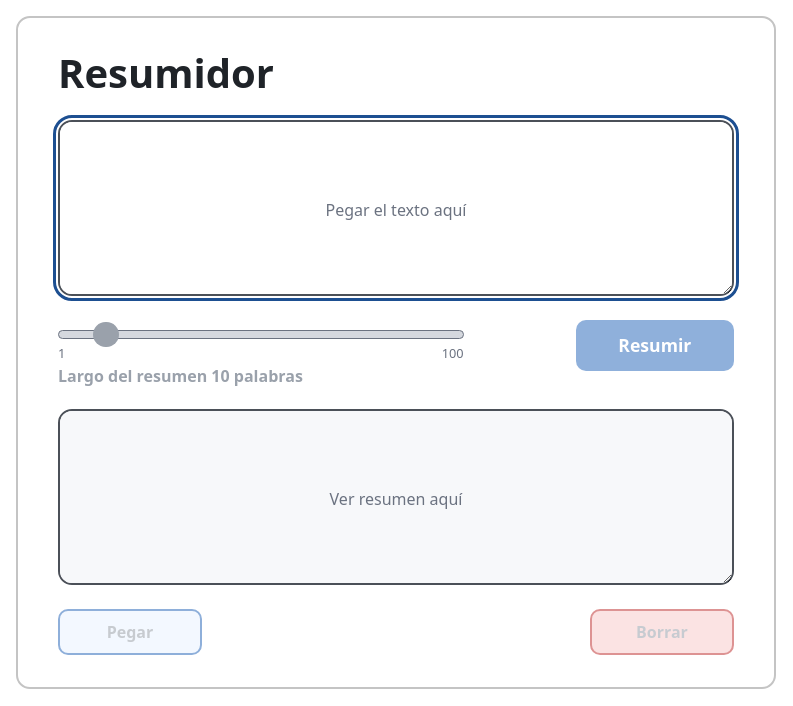
Test: SummarizePage › vuelve al placeholder si se vacía la entrada
Type "texto" into the text box named "Texto a resumir".
click(396, 208); type("texto")  # box [58,120,734,296]
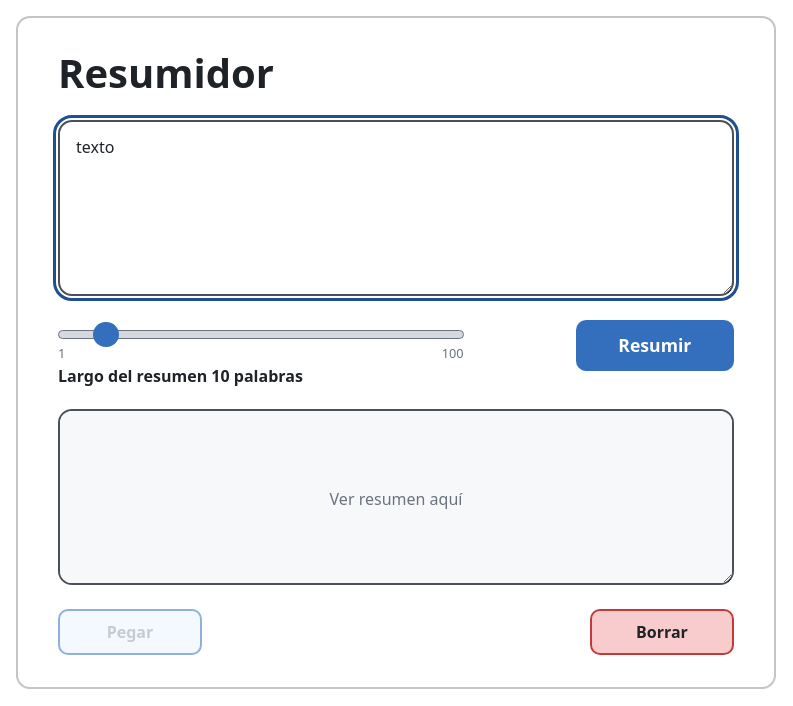
Click the button "Resumir".
click(655, 345)  # box [576,320,734,371]
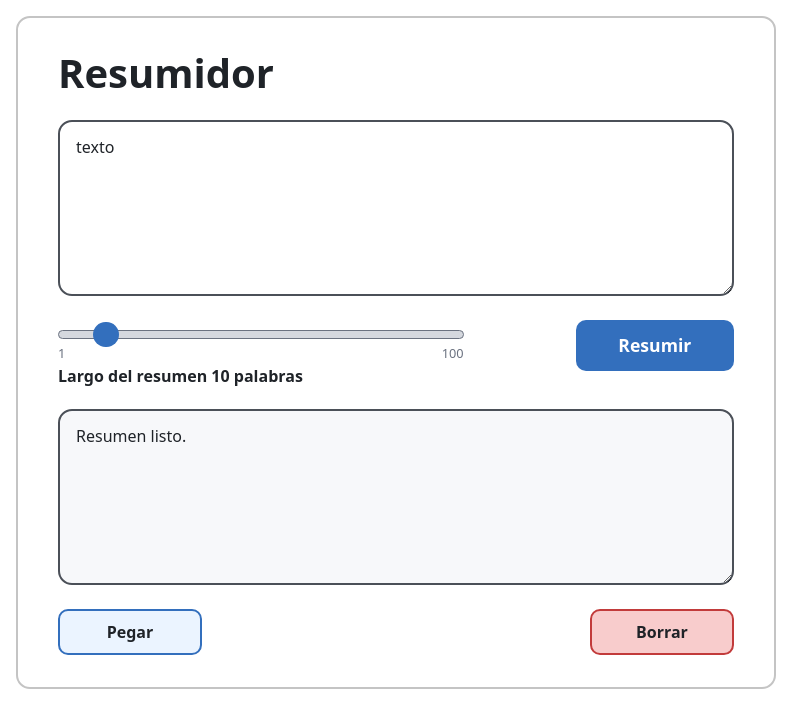
Expected: the text box showing "Resumen listo." is shown, [58,409,734,585]
Clear the text box named "Texto a resumir" at [396, 208], box [58,120,734,296]
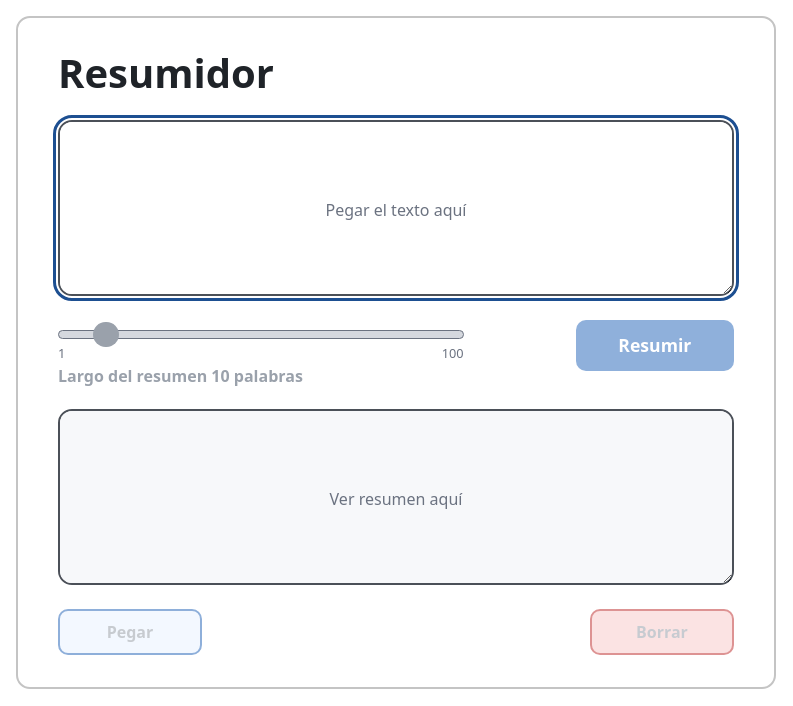
Expected: the text box named "Resumen del texto" is empty, [58,409,734,585]
